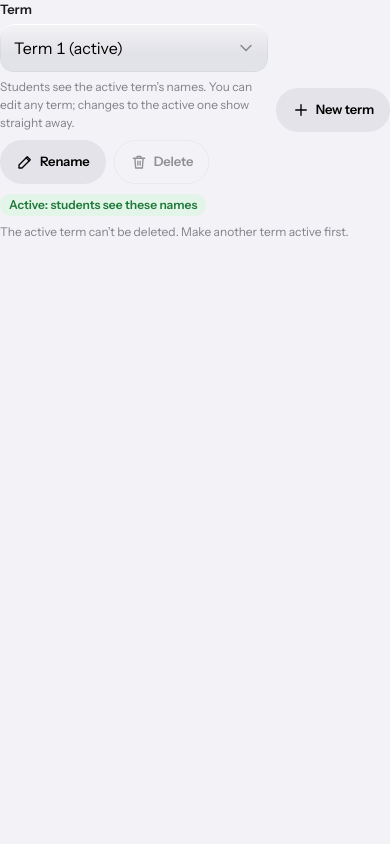
TermBar › refuses a new term with a name already in use, before asking the database
This screenshot has width=390, height=844.
Step 1. Click the button "New term" → click(333, 110), box [276,88,389,132]
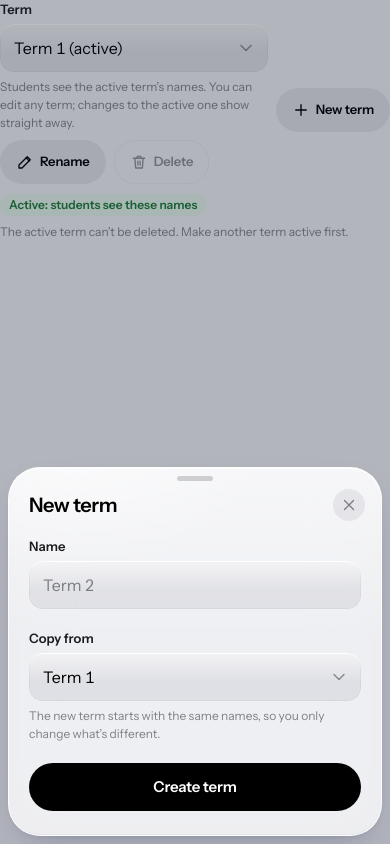
Step 2. Type "term 2" into the field labelled "Name" → (195, 585), box [29,561,361,609]
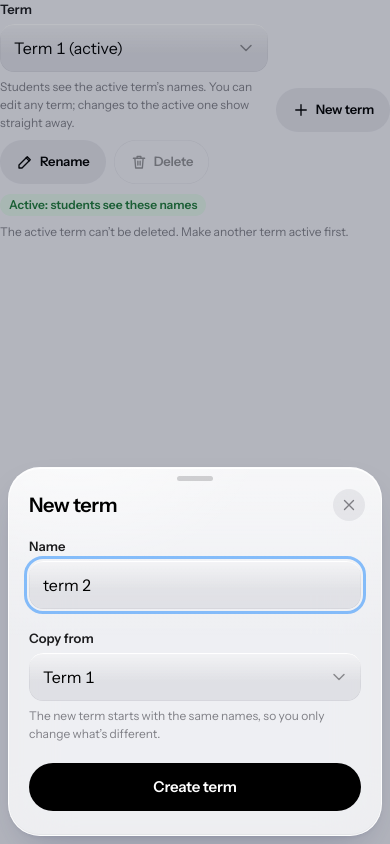
Step 3. Click the button "Create term" → click(195, 787), box [29,763,361,811]
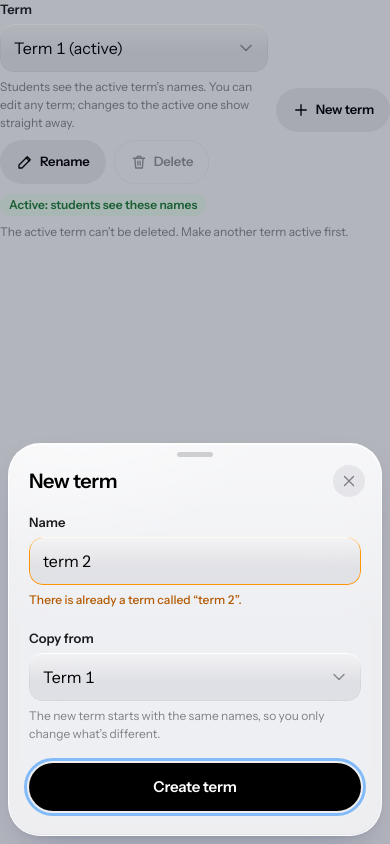
Result: the text "There is already a term called “term 2”." is shown at [29,592,242,607]
